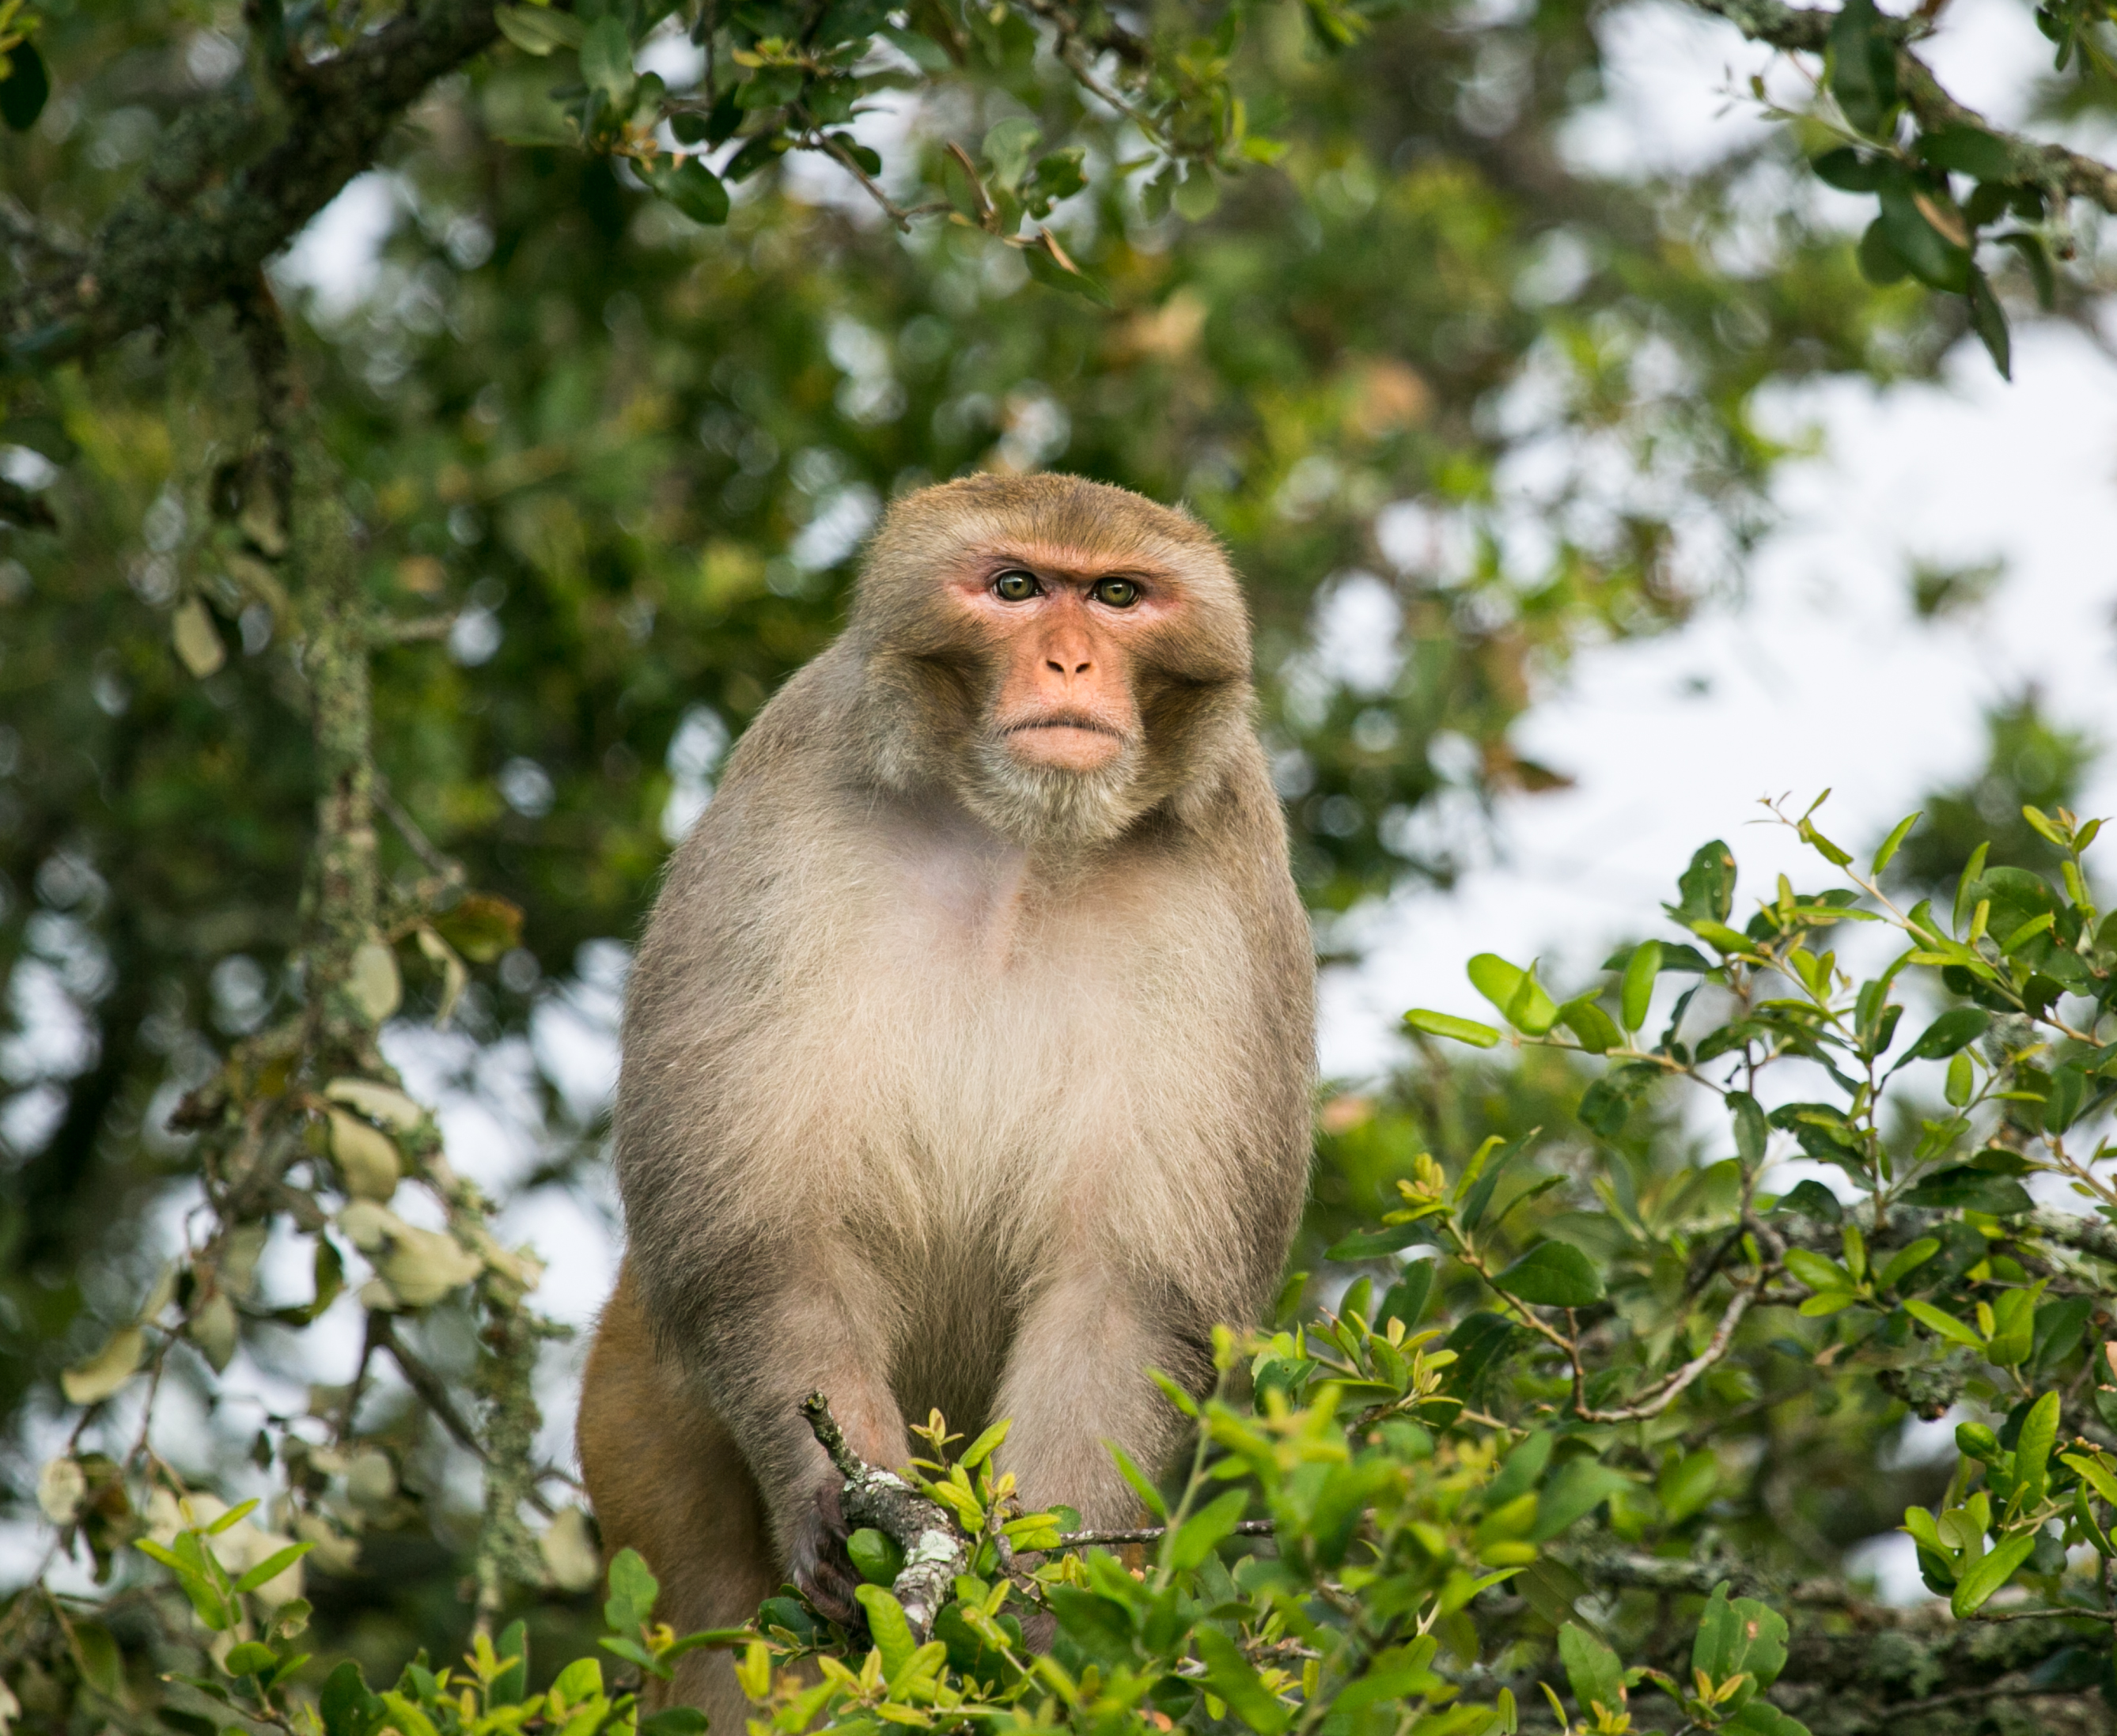monkey: (552, 439, 1445, 1680)
